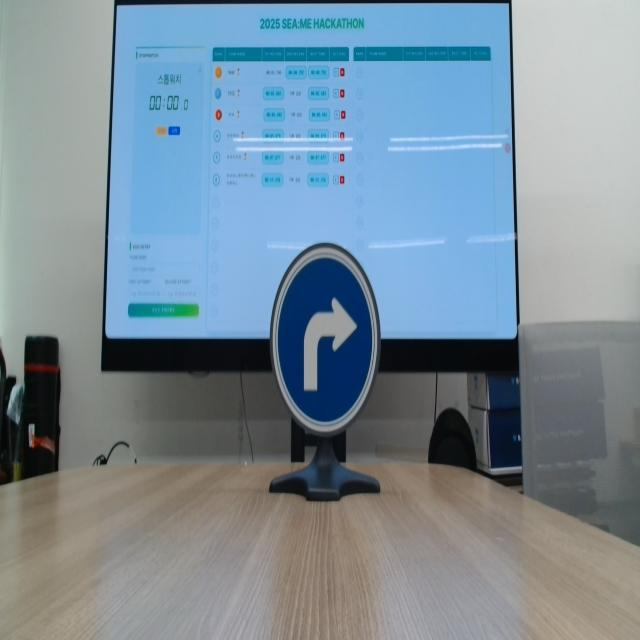right_dierection: (264, 236, 381, 435)
